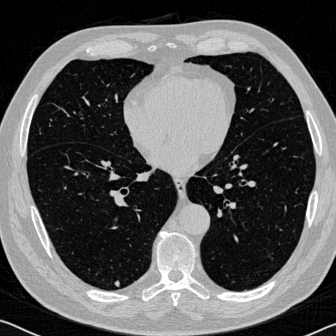nodule: (114, 281, 120, 287)
